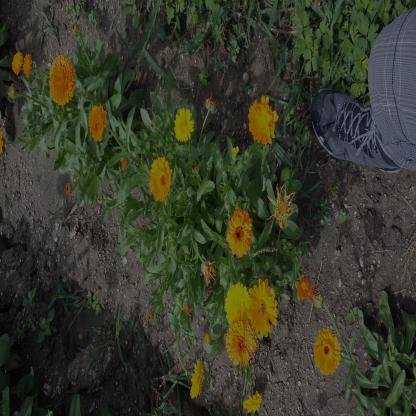marigold: (250, 282, 278, 338), (50, 56, 76, 104), (227, 324, 255, 368), (250, 98, 276, 144), (314, 328, 340, 374), (227, 210, 251, 256), (149, 157, 171, 202), (226, 286, 249, 325), (89, 105, 109, 141), (174, 109, 194, 143), (190, 360, 204, 396), (243, 392, 262, 410)
